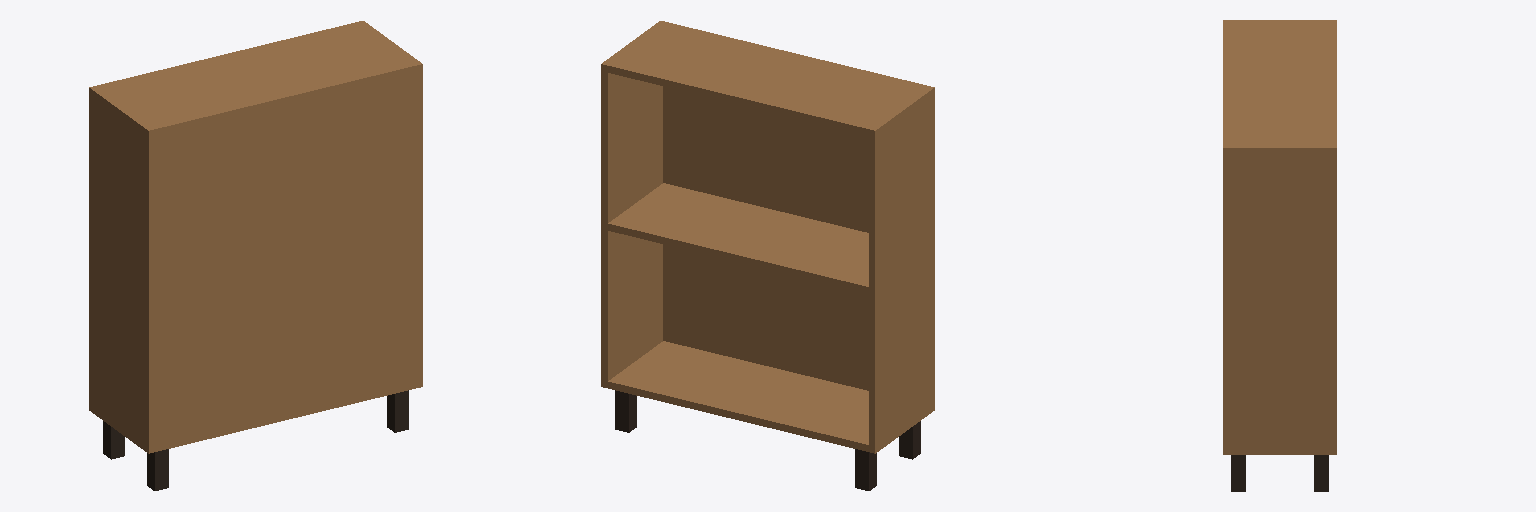
robot.urdf — simple_shelf:
<?xml version="1.0"?>
<robot name="simple_shelf">
  <!--
    A simple shelf built from box primitives.
    Dimensions (meters): width=0.8, depth=0.3, height=0.9, thickness=0.02
    Compartments: two vertical compartments (bottom and top) split by a middle board.
  -->

  <material name="ShelfWood">
    <color rgba="0.66 0.50 0.34 1.0"/>
  </material>

  <material name="ShelfLegDark">
    <color rgba="0.24 0.20 0.17 1.0"/>
  </material>

  <link name="base_link">
    <inertial>
      <origin xyz="0 0 0" rpy="0 0 0"/>
      <mass value="0.1"/>
      <inertia ixx="1e-4" ixy="0" ixz="0" iyy="1e-4" iyz="0" izz="1e-4"/>
    </inertial>
  </link>

  <!-- Bottom board -->
  <link name="bottom_board">
    <inertial>
      <origin xyz="0 0 0" rpy="0 0 0"/>
      <mass value="2.0"/>
      <inertia ixx="0.02" ixy="0" ixz="0" iyy="0.02" iyz="0" izz="0.02"/>
    </inertial>
    <visual>
      <origin xyz="0 0 0" rpy="0 0 0"/>
      <geometry>
        <box size="0.8 0.3 0.02"/>
      </geometry>
      <material name="ShelfWood"/>
    </visual>
    <collision>
      <origin xyz="0 0 0" rpy="0 0 0"/>
      <geometry>
        <box size="0.8 0.3 0.02"/>
      </geometry>
    </collision>
  </link>

  <joint name="bottom_board_joint" type="fixed">
    <parent link="base_link"/>
    <child link="bottom_board"/>
    <origin xyz="0 0 0.13" rpy="0 0 0"/>
  </joint>

  <!-- Top board -->
  <link name="top_board">
    <inertial>
      <origin xyz="0 0 0" rpy="0 0 0"/>
      <mass value="2.0"/>
      <inertia ixx="0.02" ixy="0" ixz="0" iyy="0.02" iyz="0" izz="0.02"/>
    </inertial>
    <visual>
      <origin xyz="0 0 0" rpy="0 0 0"/>
      <geometry>
        <box size="0.8 0.3 0.02"/>
      </geometry>
      <material name="ShelfWood"/>
    </visual>
    <collision>
      <origin xyz="0 0 0" rpy="0 0 0"/>
      <geometry>
        <box size="0.8 0.3 0.02"/>
      </geometry>
    </collision>
  </link>

  <joint name="top_board_joint" type="fixed">
    <parent link="base_link"/>
    <child link="top_board"/>
    <origin xyz="0 0 1.01" rpy="0 0 0"/>
  </joint>

  <!-- Middle divider board (creates two compartments) -->
  <link name="middle_board">
    <inertial>
      <origin xyz="0 0 0" rpy="0 0 0"/>
      <mass value="2.0"/>
      <inertia ixx="0.02" ixy="0" ixz="0" iyy="0.02" iyz="0" izz="0.02"/>
    </inertial>
    <visual>
      <origin xyz="0 0 0" rpy="0 0 0"/>
      <geometry>
        <box size="0.8 0.3 0.02"/>
      </geometry>
      <material name="ShelfWood"/>
    </visual>
    <collision>
      <origin xyz="0 0 0" rpy="0 0 0"/>
      <geometry>
        <box size="0.8 0.3 0.02"/>
      </geometry>
    </collision>
  </link>

  <joint name="middle_board_joint" type="fixed">
    <parent link="base_link"/>
    <child link="middle_board"/>
    <origin xyz="0 0 0.57" rpy="0 0 0"/>
  </joint>

  <!-- Left side panel -->
  <link name="left_panel">
    <inertial>
      <origin xyz="0 0 0" rpy="0 0 0"/>
      <mass value="2.5"/>
      <inertia ixx="0.03" ixy="0" ixz="0" iyy="0.03" iyz="0" izz="0.03"/>
    </inertial>
    <visual>
      <origin xyz="0 0 0" rpy="0 0 0"/>
      <geometry>
        <box size="0.02 0.3 0.9"/>
      </geometry>
      <material name="ShelfWood"/>
    </visual>
    <collision>
      <origin xyz="0 0 0" rpy="0 0 0"/>
      <geometry>
        <box size="0.02 0.3 0.9"/>
      </geometry>
    </collision>
  </link>

  <joint name="left_panel_joint" type="fixed">
    <parent link="base_link"/>
    <child link="left_panel"/>
    <origin xyz="-0.39 0 0.57" rpy="0 0 0"/>
  </joint>

  <!-- Right side panel -->
  <link name="right_panel">
    <inertial>
      <origin xyz="0 0 0" rpy="0 0 0"/>
      <mass value="2.5"/>
      <inertia ixx="0.03" ixy="0" ixz="0" iyy="0.03" iyz="0" izz="0.03"/>
    </inertial>
    <visual>
      <origin xyz="0 0 0" rpy="0 0 0"/>
      <geometry>
        <box size="0.02 0.3 0.9"/>
      </geometry>
      <material name="ShelfWood"/>
    </visual>
    <collision>
      <origin xyz="0 0 0" rpy="0 0 0"/>
      <geometry>
        <box size="0.02 0.3 0.9"/>
      </geometry>
    </collision>
  </link>

  <joint name="right_panel_joint" type="fixed">
    <parent link="base_link"/>
    <child link="right_panel"/>
    <origin xyz="0.39 0 0.57" rpy="0 0 0"/>
  </joint>

  <!-- Back panel -->
  <link name="back_panel">
    <inertial>
      <origin xyz="0 0 0" rpy="0 0 0"/>
      <mass value="2.0"/>
      <inertia ixx="0.02" ixy="0" ixz="0" iyy="0.02" iyz="0" izz="0.02"/>
    </inertial>
    <visual>
      <origin xyz="0 0 0" rpy="0 0 0"/>
      <geometry>
        <box size="0.8 0.02 0.9"/>
      </geometry>
      <material name="ShelfWood"/>
    </visual>
    <collision>
      <origin xyz="0 0 0" rpy="0 0 0"/>
      <geometry>
        <box size="0.8 0.02 0.9"/>
      </geometry>
    </collision>
  </link>

  <joint name="back_panel_joint" type="fixed">
    <parent link="base_link"/>
    <child link="back_panel"/>
    <origin xyz="0 -0.14 0.57" rpy="0 0 0"/>
  </joint>

  <!-- Front-left leg -->
  <link name="front_left_leg">
    <inertial>
      <origin xyz="0 0 0" rpy="0 0 0"/>
      <mass value="0.8"/>
      <inertia ixx="0.002" ixy="0" ixz="0" iyy="0.002" iyz="0" izz="0.002"/>
    </inertial>
    <visual>
      <origin xyz="0 0 0" rpy="0 0 0"/>
      <geometry>
        <box size="0.04 0.04 0.12"/>
      </geometry>
      <material name="ShelfLegDark"/>
    </visual>
    <collision>
      <origin xyz="0 0 0" rpy="0 0 0"/>
      <geometry>
        <box size="0.04 0.04 0.12"/>
      </geometry>
    </collision>
  </link>

  <joint name="front_left_leg_joint" type="fixed">
    <parent link="base_link"/>
    <child link="front_left_leg"/>
    <origin xyz="-0.35 0.11 0.06" rpy="0 0 0"/>
  </joint>

  <!-- Front-right leg -->
  <link name="front_right_leg">
    <inertial>
      <origin xyz="0 0 0" rpy="0 0 0"/>
      <mass value="0.8"/>
      <inertia ixx="0.002" ixy="0" ixz="0" iyy="0.002" iyz="0" izz="0.002"/>
    </inertial>
    <visual>
      <origin xyz="0 0 0" rpy="0 0 0"/>
      <geometry>
        <box size="0.04 0.04 0.12"/>
      </geometry>
      <material name="ShelfLegDark"/>
    </visual>
    <collision>
      <origin xyz="0 0 0" rpy="0 0 0"/>
      <geometry>
        <box size="0.04 0.04 0.12"/>
      </geometry>
    </collision>
  </link>

  <joint name="front_right_leg_joint" type="fixed">
    <parent link="base_link"/>
    <child link="front_right_leg"/>
    <origin xyz="0.35 0.11 0.06" rpy="0 0 0"/>
  </joint>

  <!-- Rear-left leg -->
  <link name="rear_left_leg">
    <inertial>
      <origin xyz="0 0 0" rpy="0 0 0"/>
      <mass value="0.8"/>
      <inertia ixx="0.002" ixy="0" ixz="0" iyy="0.002" iyz="0" izz="0.002"/>
    </inertial>
    <visual>
      <origin xyz="0 0 0" rpy="0 0 0"/>
      <geometry>
        <box size="0.04 0.04 0.12"/>
      </geometry>
      <material name="ShelfLegDark"/>
    </visual>
    <collision>
      <origin xyz="0 0 0" rpy="0 0 0"/>
      <geometry>
        <box size="0.04 0.04 0.12"/>
      </geometry>
    </collision>
  </link>

  <joint name="rear_left_leg_joint" type="fixed">
    <parent link="base_link"/>
    <child link="rear_left_leg"/>
    <origin xyz="-0.35 -0.11 0.06" rpy="0 0 0"/>
  </joint>

  <!-- Rear-right leg -->
  <link name="rear_right_leg">
    <inertial>
      <origin xyz="0 0 0" rpy="0 0 0"/>
      <mass value="0.8"/>
      <inertia ixx="0.002" ixy="0" ixz="0" iyy="0.002" iyz="0" izz="0.002"/>
    </inertial>
    <visual>
      <origin xyz="0 0 0" rpy="0 0 0"/>
      <geometry>
        <box size="0.04 0.04 0.12"/>
      </geometry>
      <material name="ShelfLegDark"/>
    </visual>
    <collision>
      <origin xyz="0 0 0" rpy="0 0 0"/>
      <geometry>
        <box size="0.04 0.04 0.12"/>
      </geometry>
    </collision>
  </link>

  <joint name="rear_right_leg_joint" type="fixed">
    <parent link="base_link"/>
    <child link="rear_right_leg"/>
    <origin xyz="0.35 -0.11 0.06" rpy="0 0 0"/>
  </joint>
</robot>

--- Facts derived from the render (not from the file) ---
3 views of the same robot in one strip: view 1: azimuth 30°, elevation 25°; view 2: azimuth 150°, elevation 25°; view 3: azimuth 270°, elevation 25° (orthographic).
Model simple_shelf with 11 links and 10 joints (10 fixed), rooted at base_link, posed every joint at zero.
Links seen in each view (by area): view 1: back_panel, left_panel, top_board, middle_board, right_panel, bottom_board, rear_left_leg, rear_right_leg, front_left_leg; view 2: back_panel, left_panel, top_board, right_panel, middle_board, bottom_board, front_left_leg, front_right_leg, rear_left_leg; view 3: right_panel, top_board, back_panel, front_right_leg, rear_right_leg.
Boxes of the visible links, left/top/right/bottom form: back_panel: left=145, top=64, right=422, bottom=453; left_panel: left=89, top=86, right=154, bottom=453; top_board: left=89, top=21, right=422, bottom=137; middle_board: left=89, top=222, right=422, bottom=295; right_panel: left=365, top=22, right=422, bottom=387; bottom_board: left=89, top=380, right=422, bottom=452; rear_left_leg: left=147, top=449, right=168, bottom=490; rear_right_leg: left=387, top=390, right=408, bottom=432; front_left_leg: left=103, top=421, right=124, bottom=459; back_panel: left=657, top=21, right=934, bottom=412; left_panel: left=869, top=86, right=934, bottom=452; top_board: left=601, top=21, right=934, bottom=137; right_panel: left=601, top=27, right=662, bottom=387; middle_board: left=601, top=183, right=934, bottom=295; bottom_board: left=601, top=341, right=934, bottom=453; front_left_leg: left=855, top=449, right=876, bottom=490; front_right_leg: left=615, top=390, right=636, bottom=432; rear_left_leg: left=899, top=421, right=920, bottom=459; right_panel: left=1223, top=145, right=1336, bottom=454; top_board: left=1223, top=20, right=1336, bottom=154; back_panel: left=1223, top=24, right=1230, bottom=454; front_right_leg: left=1314, top=455, right=1328, bottom=491; rear_right_leg: left=1231, top=455, right=1245, bottom=491.
Size in the robot's own frame: 0.8 by 0.3 by 1.02 metres.
Geometry: primitives only (box / cylinder / sphere), no mesh files.
